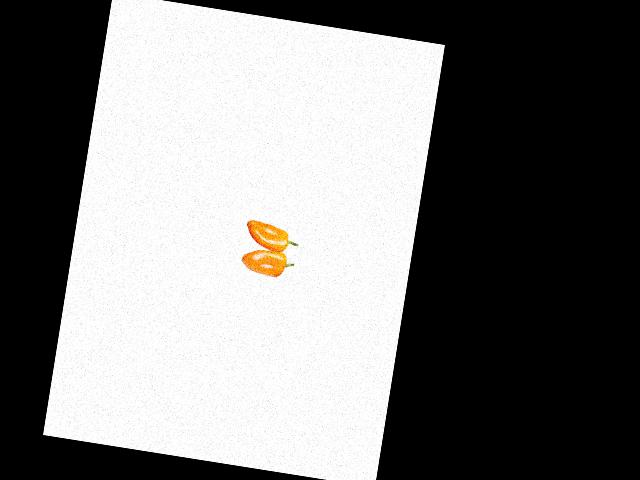bell_pepper: (228, 243, 296, 285)
